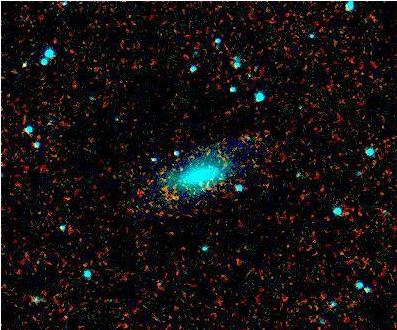star: (155, 182, 185, 212)
